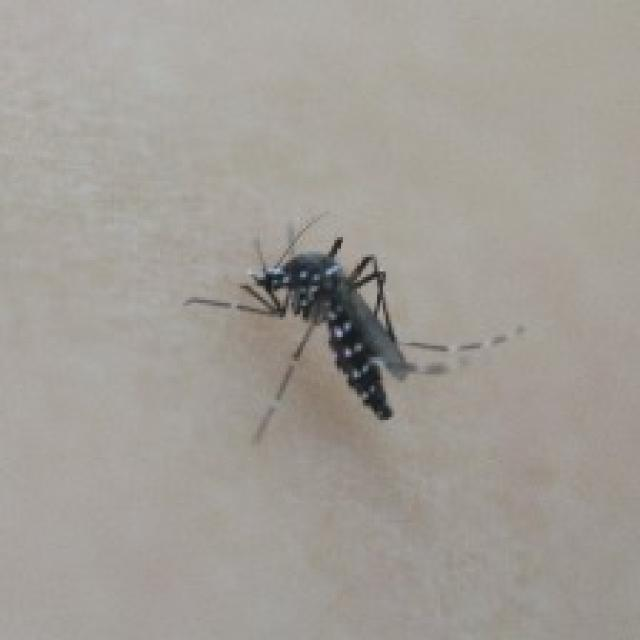aedes: (180, 208, 526, 446)
